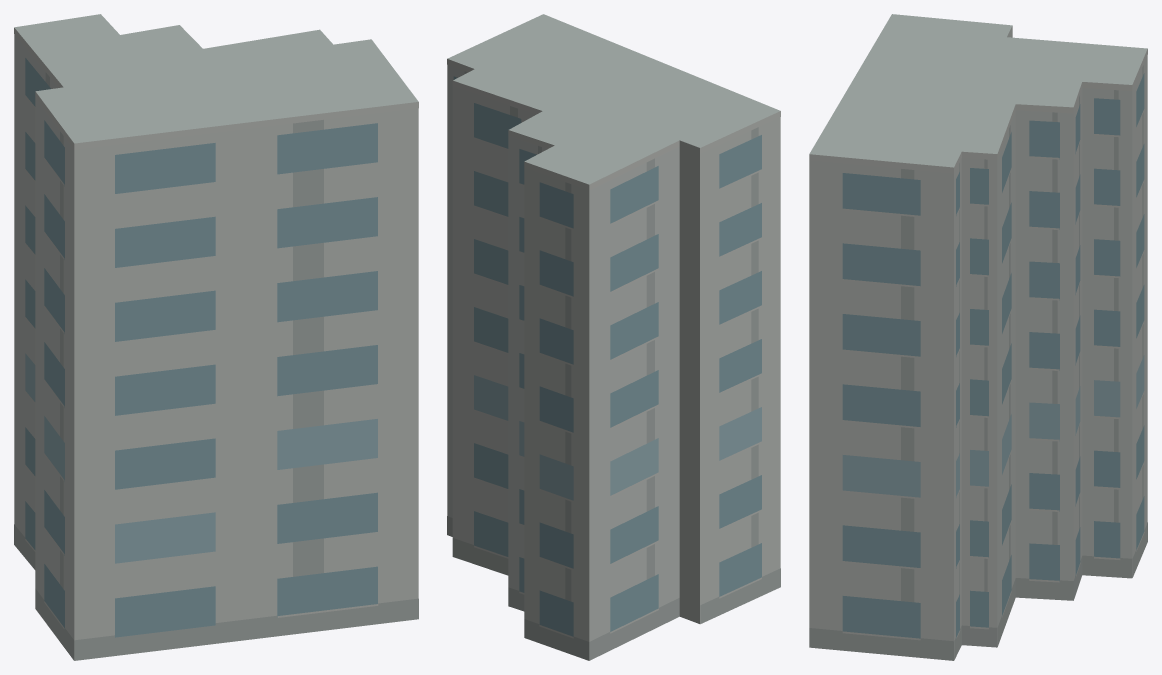
File: survey-upis-32908625.glb
3 views of the same model, side by side, from view 1: azimuth 30°, elevation 25°; view 2: azimuth 150°, elevation 25°; view 3: azimuth 270°, elevation 25° (orthographic). The views are drawn at different scales.
Visible parts, largest first — view 1: survey-upis-32908625.tmp; view 2: survey-upis-32908625.tmp; view 3: survey-upis-32908625.tmp.
Boxes of the visible parts, x1=… form: survey-upis-32908625.tmp: x1=14, y1=14, x2=418, y2=660; survey-upis-32908625.tmp: x1=447, y1=14, x2=780, y2=660; survey-upis-32908625.tmp: x1=809, y1=14, x2=1147, y2=660.
Size of the model in its own units: 13.02 by 19.5 by 12.14.
